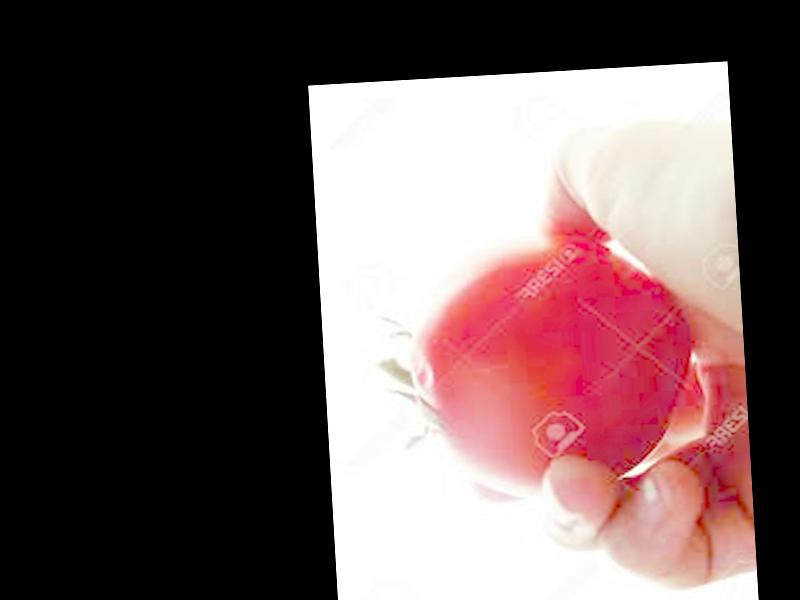Tomato: (400, 231, 695, 506)
